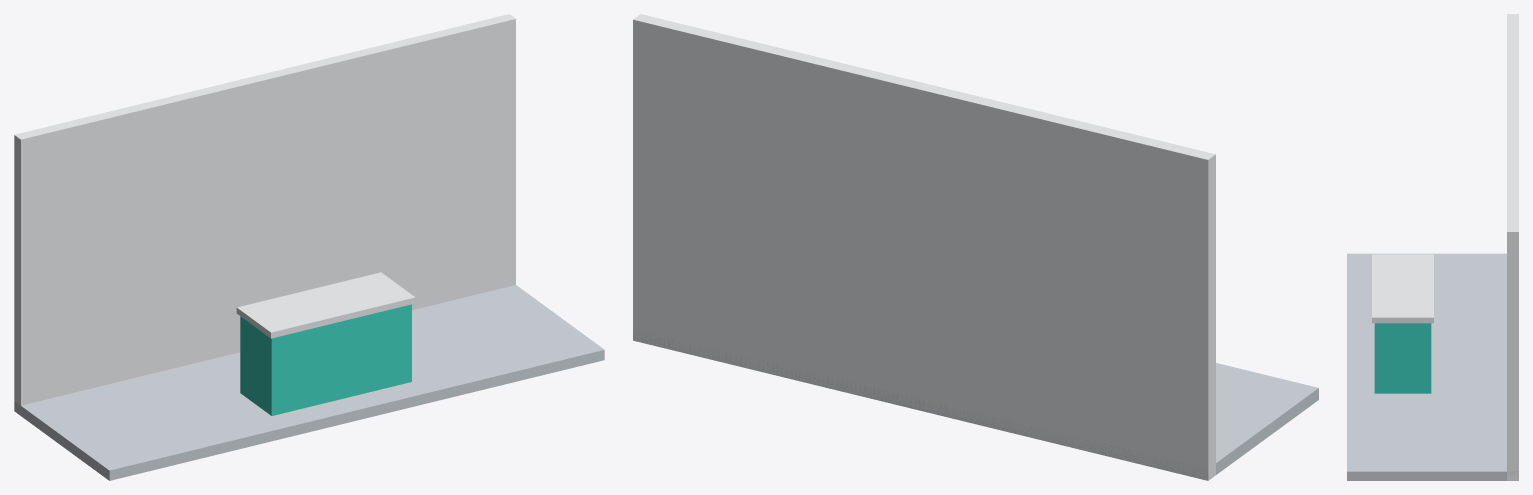
3 views of the same model, side by side, from view 1: azimuth 30°, elevation 25°; view 2: azimuth 150°, elevation 25°; view 3: azimuth 270°, elevation 25° (orthographic). The views are drawn at different scales.
Parts seen in each view (by area): view 1: Exhibition Booth Concept; view 2: Exhibition Booth Concept; view 3: Exhibition Booth Concept.
Part boxes in pixels (x1,y1,x2,y2): Exhibition Booth Concept: [14, 14, 604, 480]; Exhibition Booth Concept: [633, 14, 1318, 480]; Exhibition Booth Concept: [1347, 14, 1518, 480].
Size of the model in its own units: 6 by 3.2 by 2.
